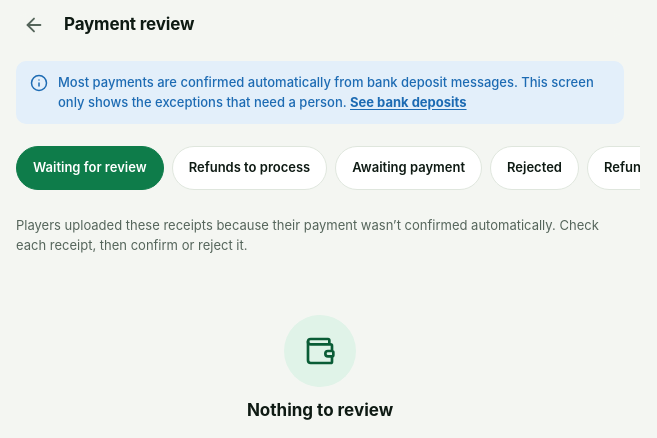
Test case: payment review: the queue › shows an empty state per queue
Expected: the heading "Nothing to review" is shown, [247,399,393,421]
Click the button "Refunds to process".
click(249, 168)  # box [172,146,327,190]
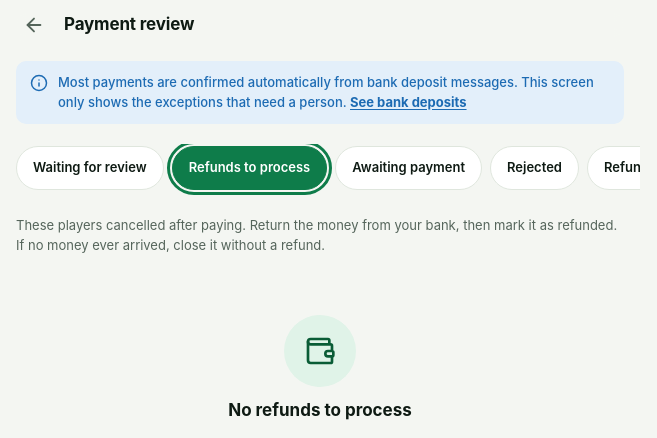
Now the heading "No refunds to process" is shown, box [228,399,412,421]
